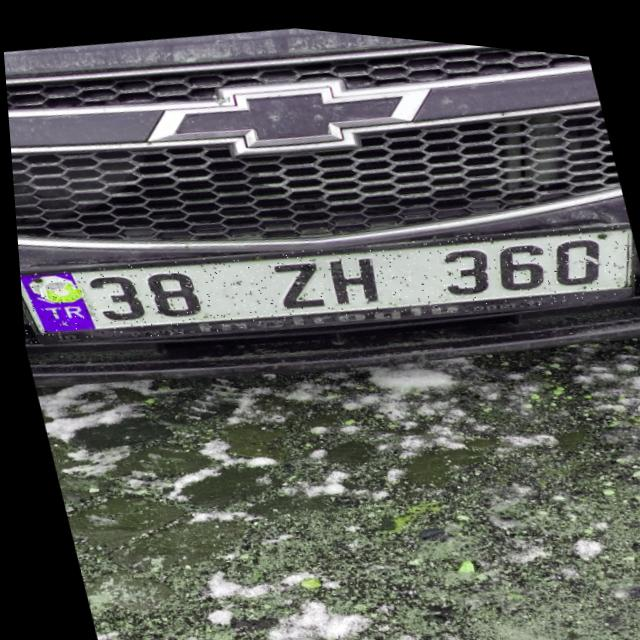license_plate: (10, 164, 640, 393)
